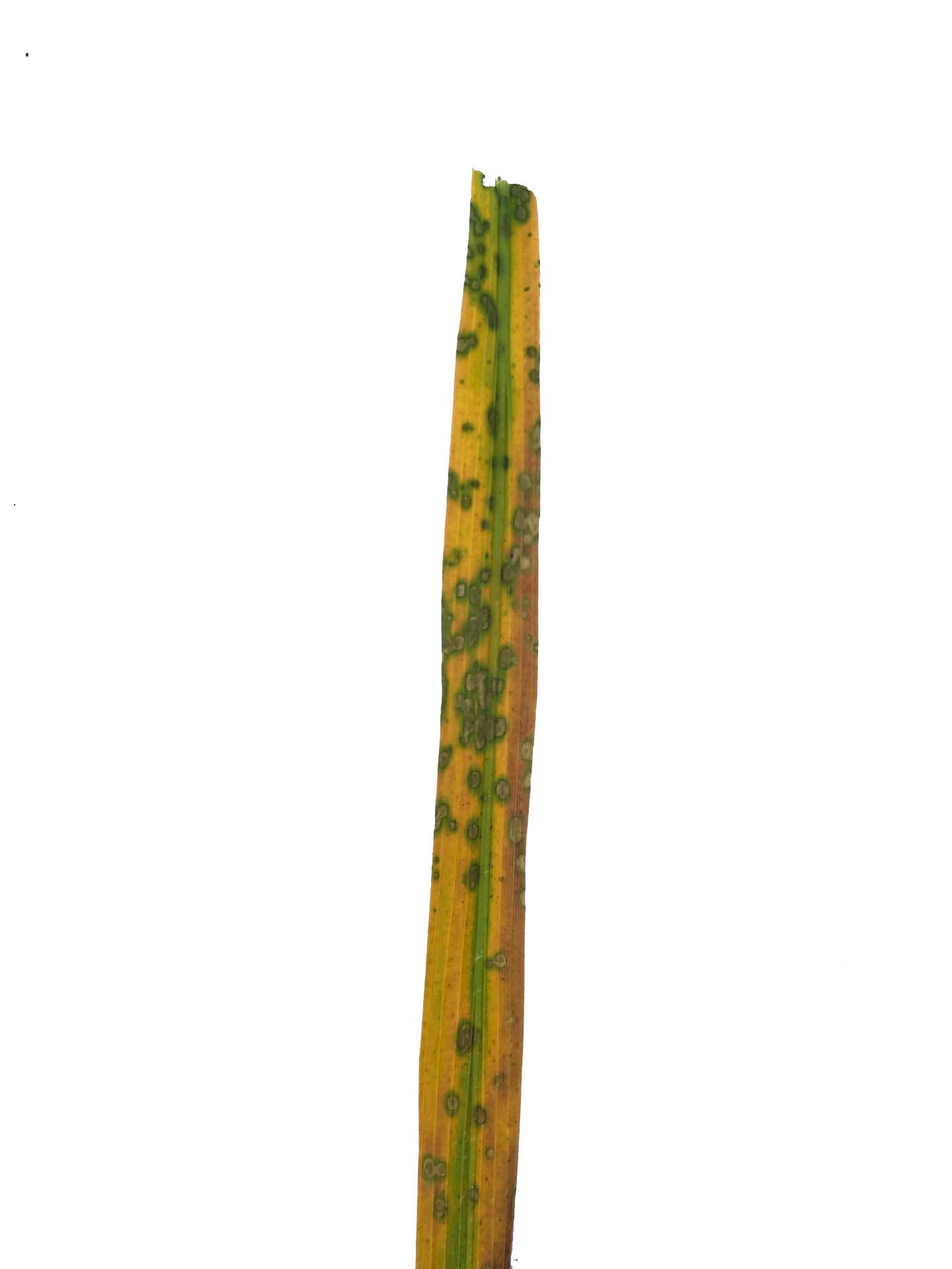Tungro: (413, 173, 541, 1269)
